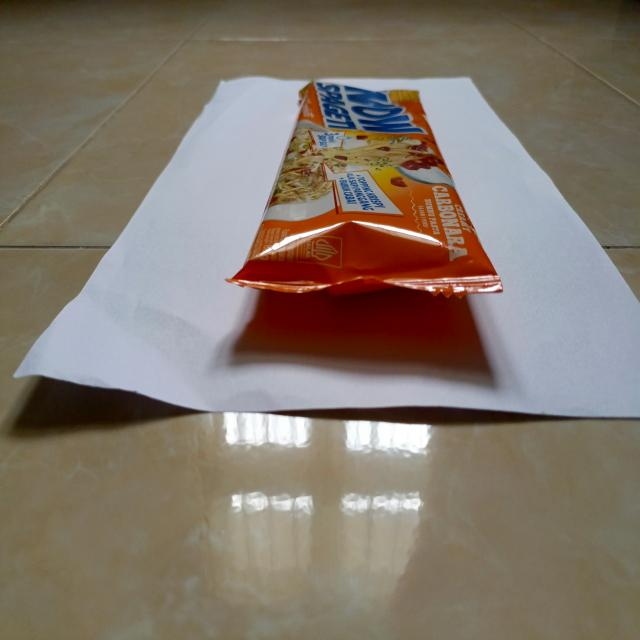indomie-tori-miso: (225, 80, 506, 306)
